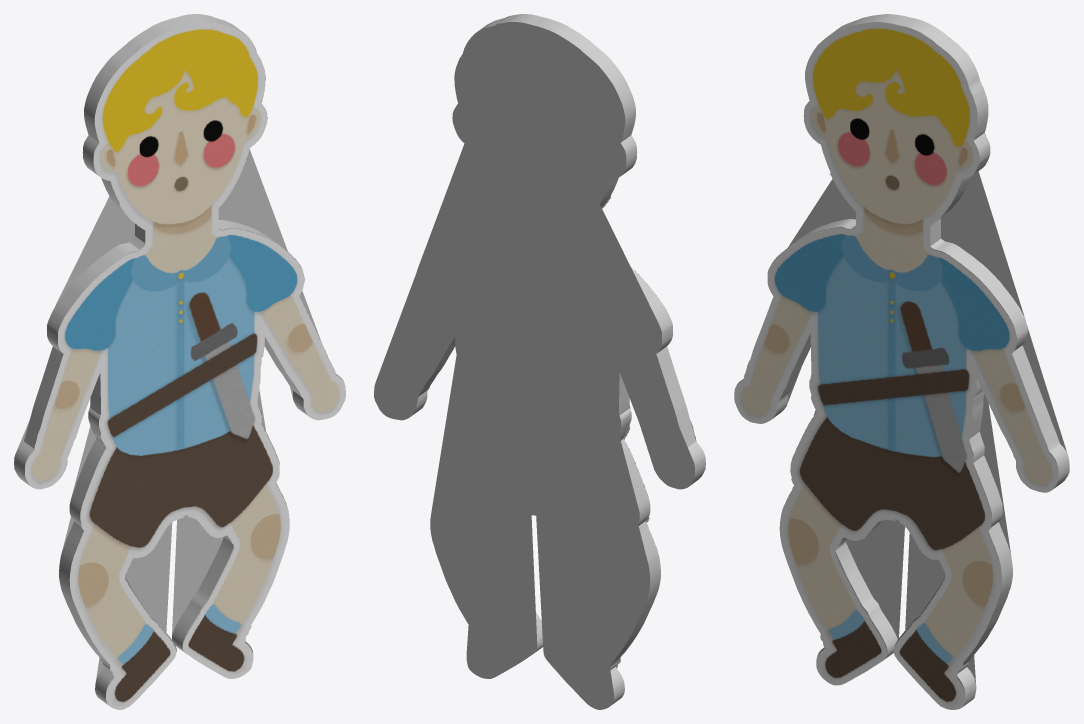
The model's file is princeJump.fbx.
3 renders of one model, left to right at view 1: azimuth 30°, elevation 25°; view 2: azimuth 150°, elevation 25°; view 3: azimuth 330°, elevation 25°, orthographic.
Visible parts, largest first — view 1: princeJump; view 2: princeJump; view 3: princeJump.
Part boxes in pixels (x1,y1,x2,y2): princeJump: (14,14,345,709); princeJump: (374,14,705,709); princeJump: (734,14,1069,709).
Bounding box in the file's own units: 221 × 441 × 12.87.
